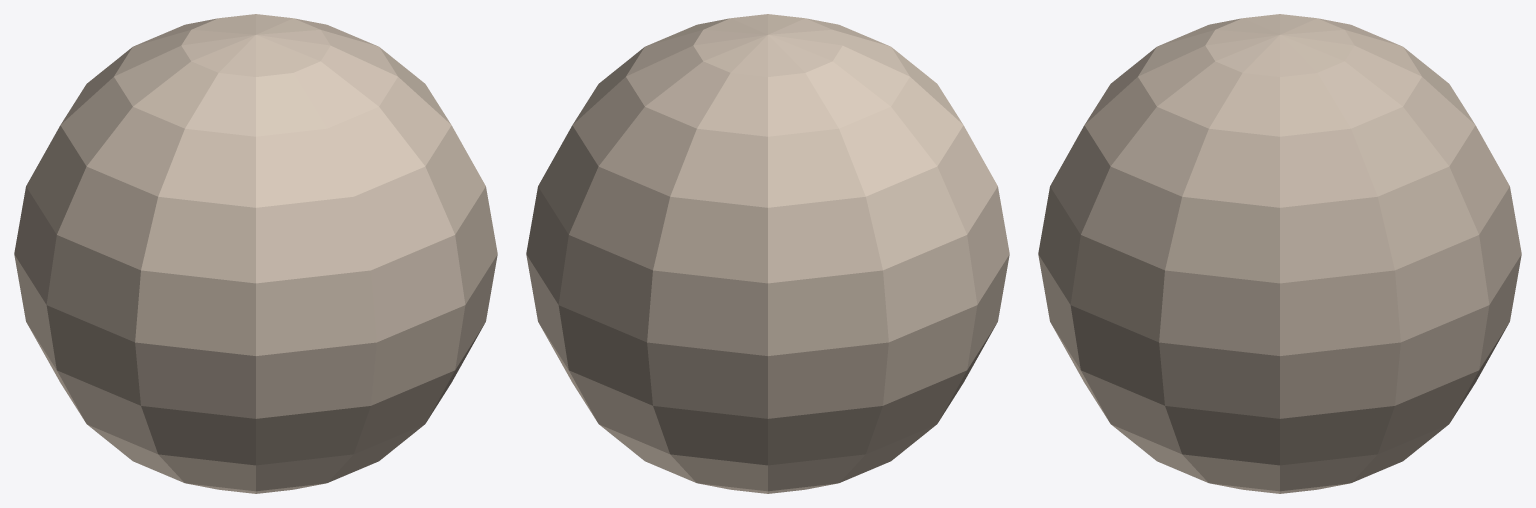
File: sphere_skin.gltf
3 renders of one model, left to right at view 1: azimuth 30°, elevation 25°; view 2: azimuth 150°, elevation 25°; view 3: azimuth 270°, elevation 25°, orthographic.
Visible parts, largest first — view 1: mesh; view 2: mesh; view 3: mesh.
Boxes of the visible parts, bbox=[...] form: mesh: bbox=[14, 14, 497, 493]; mesh: bbox=[526, 14, 1009, 493]; mesh: bbox=[1038, 14, 1521, 493].
Size of the model in its own units: 0.84 by 0.84 by 0.84.
